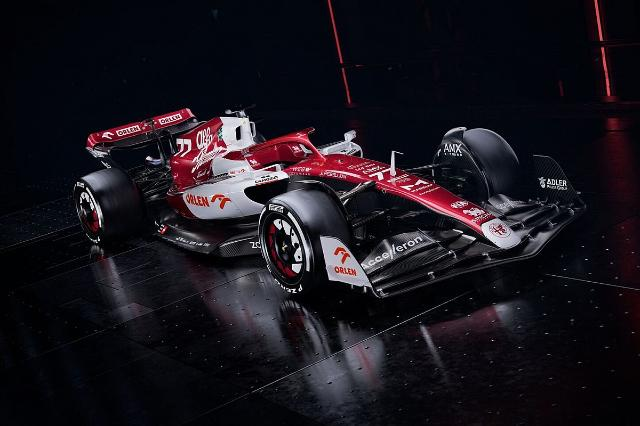alpha-romeo: (71, 108, 586, 302)
